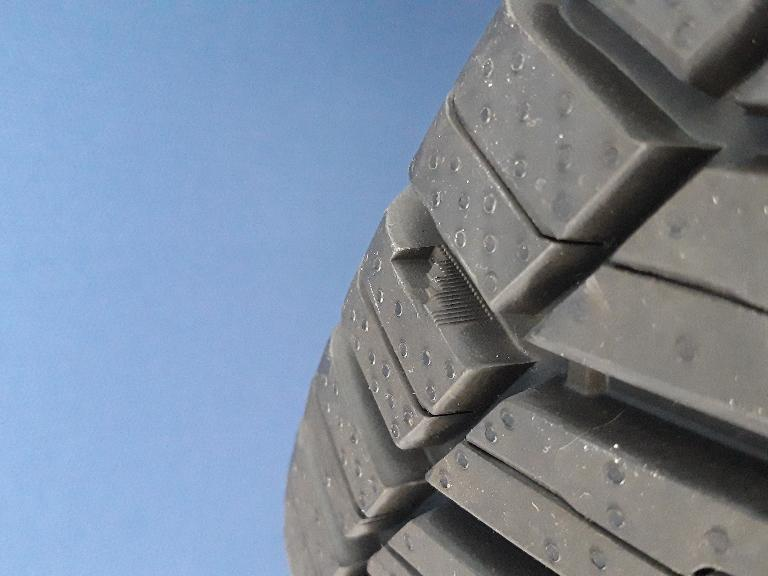temoin:100: (388, 243, 494, 330)
